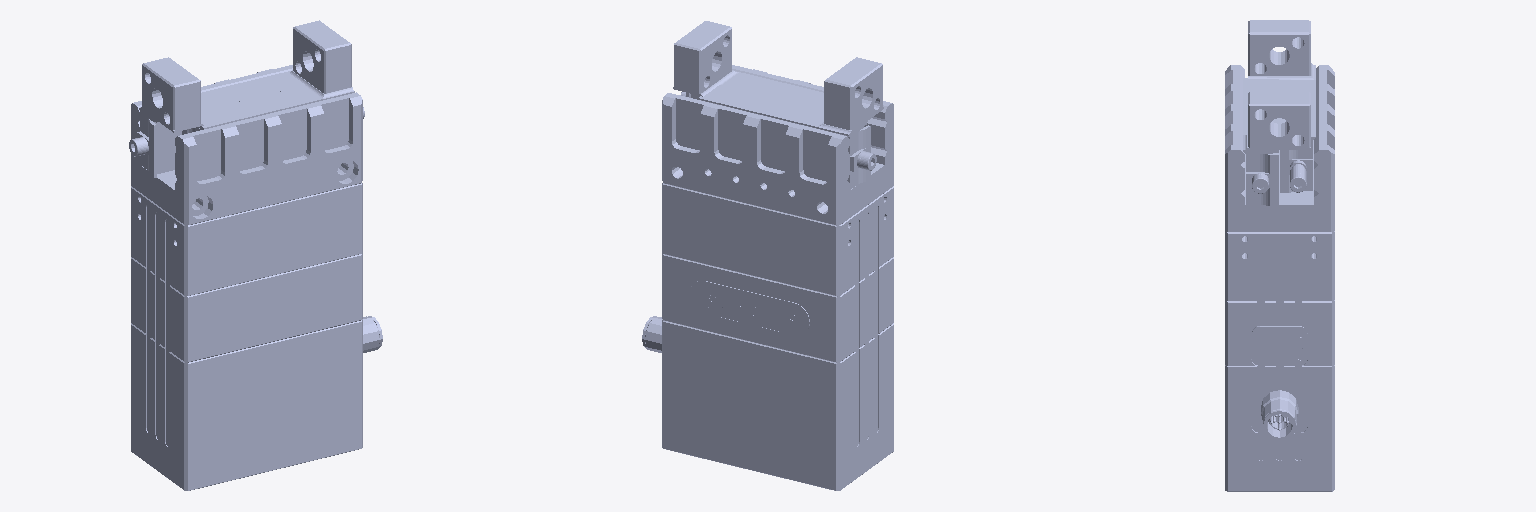
The robot description file, URDF, robot "egp":
<?xml version="1.0" ?>
<!-- =================================================================================== -->
<!-- |    This document was autogenerated by xacro from egp.urdf.xacro                 | -->
<!-- |    EDITING THIS FILE BY HAND IS NOT RECOMMENDED                                 | -->
<!-- =================================================================================== -->
<robot name="egp">
  <!--degrees to radians-->
  <!-- xacro:egp_base_link prefix="" meshType="dae" / -->
  <!-- <xacro:include filename="$(find egp_description)/urdf/egp_fingers_link.urdf.xacro" /> -->
  <!-- xacro:egp_transmission prefix=""  / -->
  <!-- links -->
  <link name="egp_base_link">
    <inertial>
      <origin rpy="0 0 0" xyz="-1.3649E-05 0.00020804 0.053268"/>
      <mass value="0.23519"/>
      <inertia ixx="0.0003045" ixy="1.4187E-09" ixz="6.5932E-08" iyy="0.00024967" iyz="7.767E-07" izz="0.00010458"/>
    </inertial>
    <visual>
      <origin rpy="0 0 0" xyz="0 0 0"/>
      <geometry>
        <mesh filename="package://egp_description/meshes/egp_base.dae"/>
      </geometry>
      <material name="">
        <color rgba="0.79216 0.81961 0.93333 1"/>
      </material>
    </visual>
    <collision>
      <origin rpy="0 0 0" xyz="0 0 0"/>
      <geometry>
        <mesh filename="package://egp_description/meshes/egp_base.dae"/>
      </geometry>
    </collision>
  </link>
  <link name="egp_trans_1">
    <inertial>
      <origin rpy="0 0 0" xyz="0.0016208 0.02782 0.004811"/>
      <mass value="0.011095"/>
      <inertia ixx="3.553E-06" ixy="2.3867E-07" ixz="-1.9314E-07" iyy="1.0926E-06" iyz="7.2782E-07" izz="2.863E-06"/>
    </inertial>
    <visual>
      <origin rpy="0 0 0" xyz="-0.016 0.027 -0.00893"/>
      <geometry>
        <mesh filename="package://egp_description/meshes/egp_trans_1.dae"/>
      </geometry>
      <material name="">
        <color rgba="0.79216 0.81961 0.93333 1"/>
      </material>
    </visual>
    <collision>
      <origin rpy="0 0 0" xyz="-0.016 0.027 -0.00893"/>
      <geometry>
        <mesh filename="package://egp_description/meshes/egp_trans_1.dae"/>
      </geometry>
    </collision>
  </link>
  <link name="egp_trans_2">
    <inertial>
      <origin rpy="0 0 0" xyz="0.0016549 -0.037399 0.0049123"/>
      <mass value="0.010866"/>
      <inertia ixx="3.5456E-06" ixy="2.3867E-07" ixz="-1.9314E-07" iyy="1.0919E-06" iyz="7.2782E-07" izz="2.8556E-06"/>
    </inertial>
    <visual>
      <origin rpy="0 0 0" xyz="-0.016 -0.037 -0.00893"/>
      <geometry>
        <mesh filename="package://egp_description/meshes/egp_trans_2.dae"/>
      </geometry>
      <material name="">
        <color rgba="0.79216 0.81961 0.93333 1"/>
      </material>
    </visual>
    <collision>
      <origin rpy="0 0 0" xyz="-0.016 -0.037 -0.00893"/>
      <geometry>
        <mesh filename="package://egp_description/meshes/egp_trans_2.dae"/>
      </geometry>
    </collision>
  </link>
  <joint name="egp_prismatic_1" type="prismatic">
    <origin rpy="0 0 -1.570796" xyz="-0.059 -0.016075 0.10975"/>
    <parent link="egp_base_link"/>
    <child link="egp_trans_1"/>
    <axis xyz="0 1 0"/>
    <limit effort="300" lower="-0.03" upper="0.02" velocity="1"/>
    <dynamics damping="0.3" friction="0.2"/>
  </joint>
  <joint name="egp_prismatic_2" type="prismatic">
    <origin rpy="0 0 -1.570796" xyz="0.069 -0.016075 0.10975"/>
    <parent link="egp_base_link"/>
    <child link="egp_trans_2"/>
    <axis xyz="0 1 0"/>
    <limit effort="300" lower="-0.02" upper="0.03" velocity="1"/>
    <mimic joint="egp_prismatic_1" multiplier="-1" offset="0"/>
    <dynamics damping="0.3" friction="0.2"/>
  </joint>
  <transmission name="trans_prismatic_joint_translational_1_effort">
    <type>transmission_interface/SimpleTransmission</type>
    <joint name="egp_prismatic_1">
      <hardwareInterface>hardware_interface/EffortJointInterface</hardwareInterface>
    </joint>
    <actuator name="prismatic_joint_translational_1_motor_effort">
      <hardwareInterface>hardware_interface/EffortJointInterface</hardwareInterface>
      <mechanicalReduction>1</mechanicalReduction>
    </actuator>
  </transmission>
  <gazebo>
    <plugin filename="libroboticsgroup_upatras_gazebo_mimic_joint_plugin.so" name="translational_2">
      <joint>egp_prismatic_1</joint>
      <mimicJoint>egp_prismatic_2</mimicJoint>
      <multiplier>-1</multiplier>
      <offset>0</offset>
    </plugin>
  </gazebo>
  <!-- links -->
  <!--link name="world" /-->
  <!--
        <joint name="fixed" type="fixed">
            <parent link="world" />
            <child link="${prefix}base_link" />
        </joint>
-->
</robot>

--- What the picture shows (computed from the rendered views, not written in the file) ---
The picture shows the robot from 3 angles, left to right: view 1: azimuth 30°, elevation 25°; view 2: azimuth 150°, elevation 25°; view 3: azimuth 270°, elevation 25°; orthographic projection.
Model egp with 3 links and 2 joints (2 prismatic), rooted at egp_base_link, posed all joints at 0.
Visible links, largest first — view 1: egp_base_link, egp_trans_1, egp_trans_2; view 2: egp_base_link, egp_trans_1, egp_trans_2; view 3: egp_base_link, egp_trans_2, egp_trans_1.
Link boxes in pixels (box(x1,y1,x2,y2)): egp_base_link: box(131, 65, 382, 490); egp_trans_1: box(129, 57, 304, 177); egp_trans_2: box(176, 20, 364, 151); egp_base_link: box(642, 65, 893, 490); egp_trans_1: box(698, 57, 883, 189); egp_trans_2: box(673, 21, 823, 109); egp_base_link: box(1225, 65, 1334, 491); egp_trans_2: box(1243, 78, 1310, 205); egp_trans_1: box(1248, 20, 1315, 192).
Size in the robot's own frame: 0.083 by 0.0352 by 0.1359 metres.
Meshes: 3 distinct files referenced, 3 mesh visuals loaded (3 Collada DAE).
